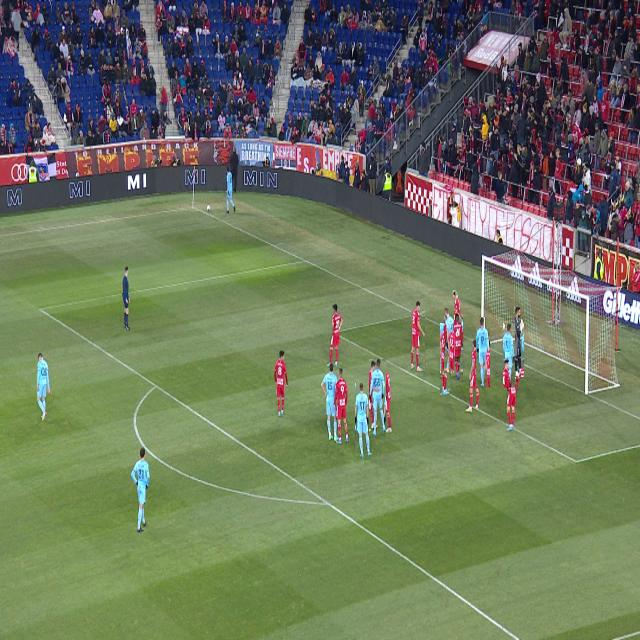goalkeeper: (513, 308, 524, 377)
player: (131, 447, 150, 532), (321, 363, 339, 442), (355, 383, 372, 458), (370, 360, 386, 436), (465, 340, 481, 412), (333, 368, 348, 444), (326, 304, 343, 367), (377, 362, 392, 433), (411, 301, 425, 371), (476, 318, 490, 387), (37, 353, 51, 421), (506, 359, 519, 431), (274, 350, 288, 416), (451, 314, 463, 380), (503, 324, 515, 387), (440, 324, 450, 395), (444, 308, 454, 373), (451, 290, 461, 325), (448, 376, 449, 377)
referee: (122, 266, 130, 330)
